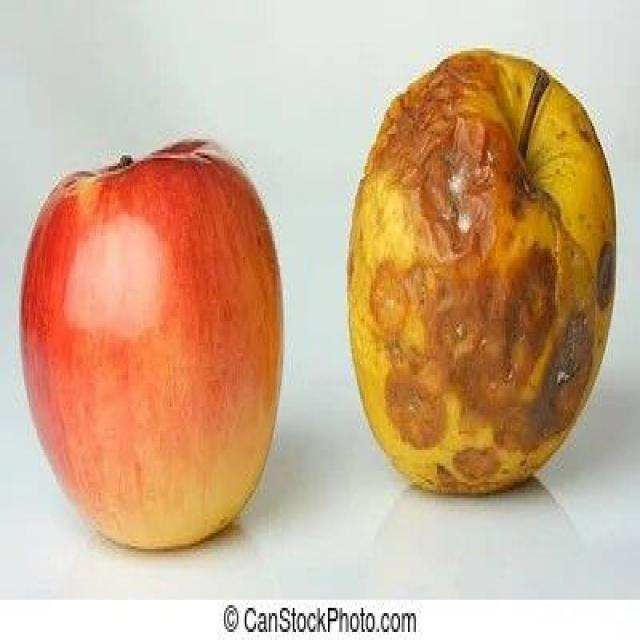fresh_apple: (19, 130, 283, 550)
rotten_apple: (345, 48, 618, 496)
